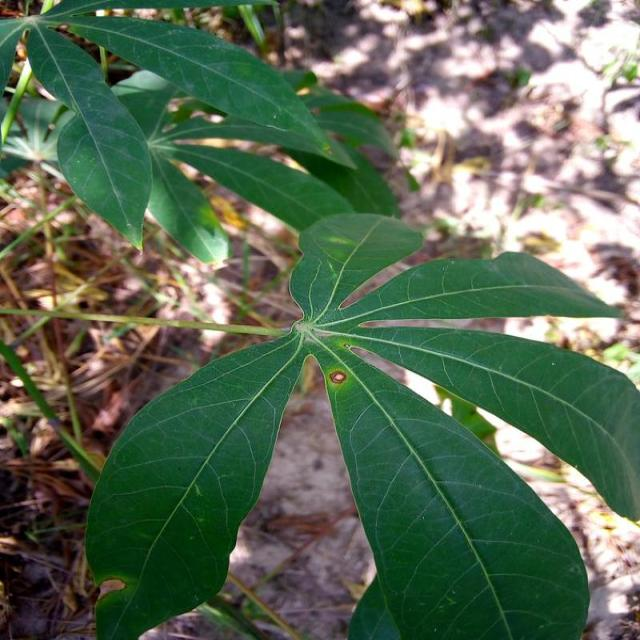cassava leaf: (84, 210, 638, 638), (311, 334, 591, 638)
